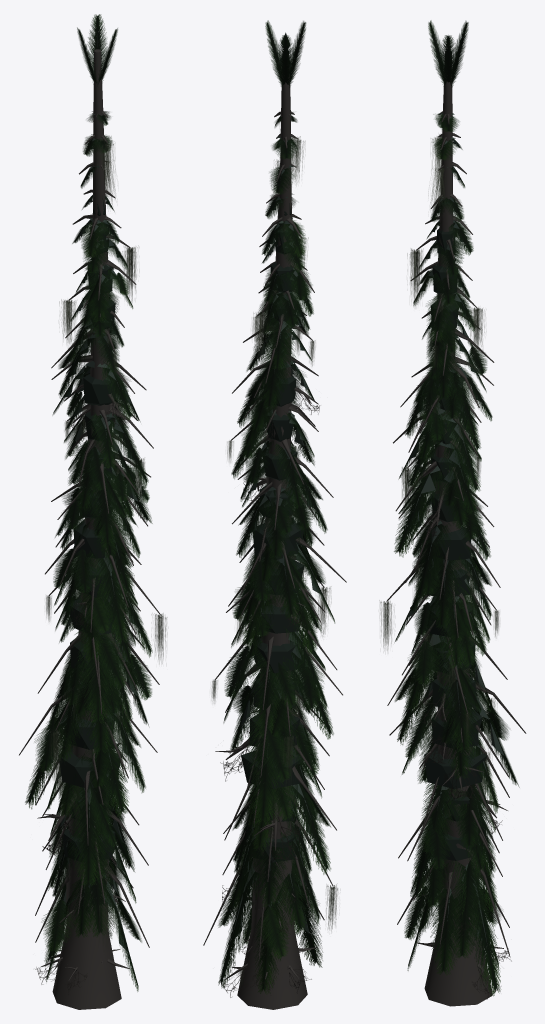
Rendered from Abeto_Oscuro_Columnar.glb.
3 renders of one model, left to right at view 1: azimuth 90°, elevation 25°; view 2: azimuth 150°, elevation 25°; view 3: azimuth 270°, elevation 25°, orthographic.
Parts seen in each view (by area): view 1: Abeto_Oscuro_Columnar; view 2: Abeto_Oscuro_Columnar; view 3: Abeto_Oscuro_Columnar.
Part boxes in pixels (x1,y1,x2,y2): Abeto_Oscuro_Columnar: [19, 14, 167, 1009]; Abeto_Oscuro_Columnar: [203, 20, 346, 1009]; Abeto_Oscuro_Columnar: [379, 20, 526, 1006].
Size of the model in its own units: 2.97 by 22.14 by 3.24.
9 materials, 5 textured.
